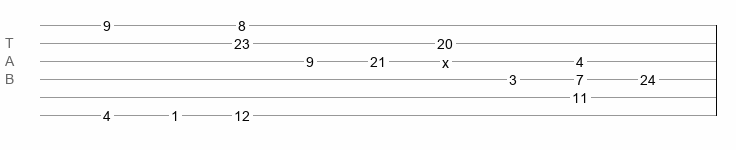1: (171, 108, 179, 118)
11: (572, 90, 588, 100)
12: (234, 108, 250, 118)
20: (437, 36, 453, 46)
21: (370, 54, 386, 64)
23: (234, 36, 250, 46)
24: (640, 72, 656, 82)
3: (509, 72, 517, 82)
4: (103, 108, 111, 118), (576, 54, 584, 64)
7: (576, 72, 584, 82)
8: (238, 18, 246, 28)
9: (103, 18, 111, 28), (306, 54, 314, 64)
x: (442, 55, 449, 63)
